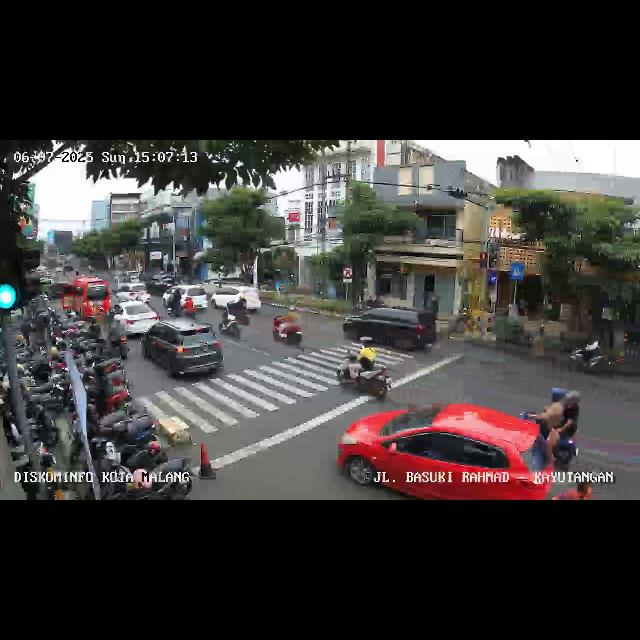car: (336, 402, 554, 500), (142, 321, 226, 382), (342, 304, 436, 352), (60, 277, 110, 323), (210, 280, 262, 314), (112, 302, 160, 338), (164, 282, 208, 310), (114, 282, 150, 304)
motorcycle: (536, 385, 584, 497), (565, 329, 637, 385), (336, 341, 394, 403), (218, 294, 252, 342), (272, 307, 306, 349), (106, 319, 132, 361), (166, 288, 182, 320), (182, 296, 198, 318)
